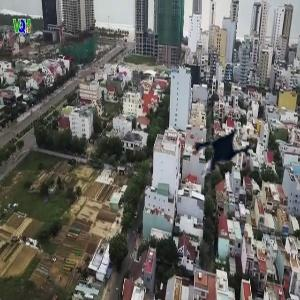drone: (178, 108, 271, 201)
